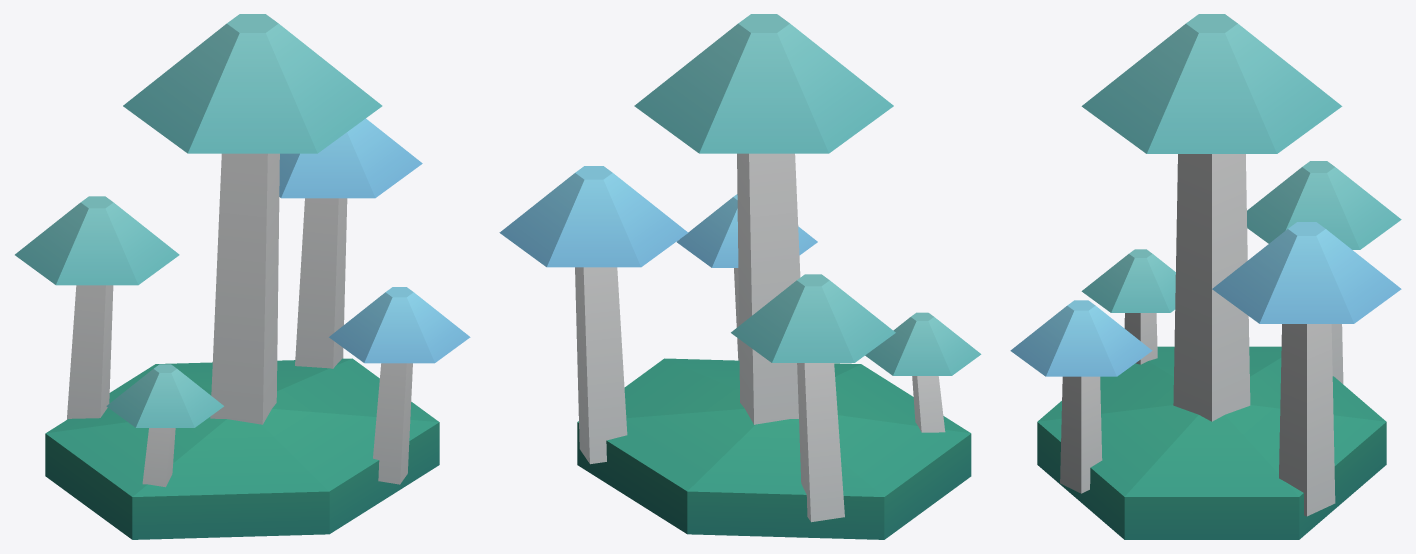
File: glowcap_cluster.glb
The picture shows the model from 3 angles, left to right: view 1: azimuth 30°, elevation 25°; view 2: azimuth 150°, elevation 25°; view 3: azimuth 270°, elevation 25°; orthographic projection.
Parts seen in each view (by area): view 1: glowcap_cluster; view 2: glowcap_cluster; view 3: glowcap_cluster.
Part boxes in pixels (left/top/right/bottom): glowcap_cluster: left=15, top=14, right=470, bottom=539; glowcap_cluster: left=499, top=14, right=981, bottom=539; glowcap_cluster: left=1010, top=14, right=1401, bottom=539.
Size of the model in its own units: 0.3526 by 0.435 by 0.33.
1 material, 1 textured.
